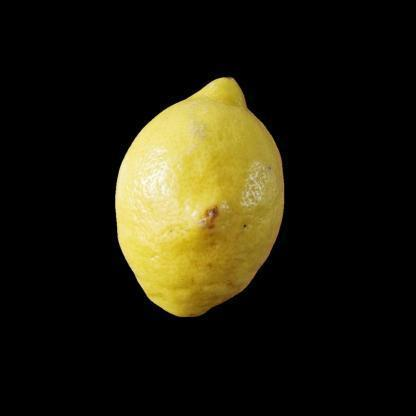lemon: (115, 75, 286, 318)
